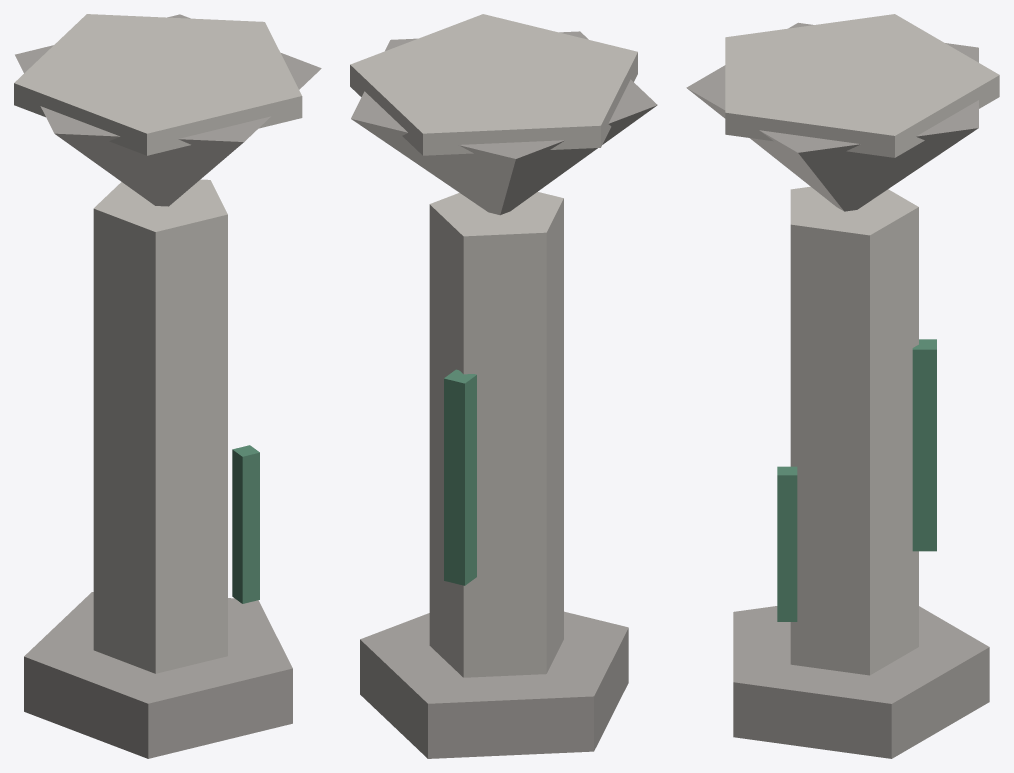
The model's file is Beacon.fbx.
3 renders of one model, left to right at view 1: azimuth 30°, elevation 25°; view 2: azimuth 150°, elevation 25°; view 3: azimuth 270°, elevation 25°, orthographic.
Parts seen in each view (by area): view 1: Body; view 2: Body; view 3: Body.
Boxes of the visible parts, left/top/right/bottom form: Body: left=14, top=14, right=321, bottom=758; Body: left=350, top=14, right=657, bottom=758; Body: left=686, top=14, right=999, bottom=758.
Bounding box in the file's own units: 1.52 × 3.42 × 1.55.
